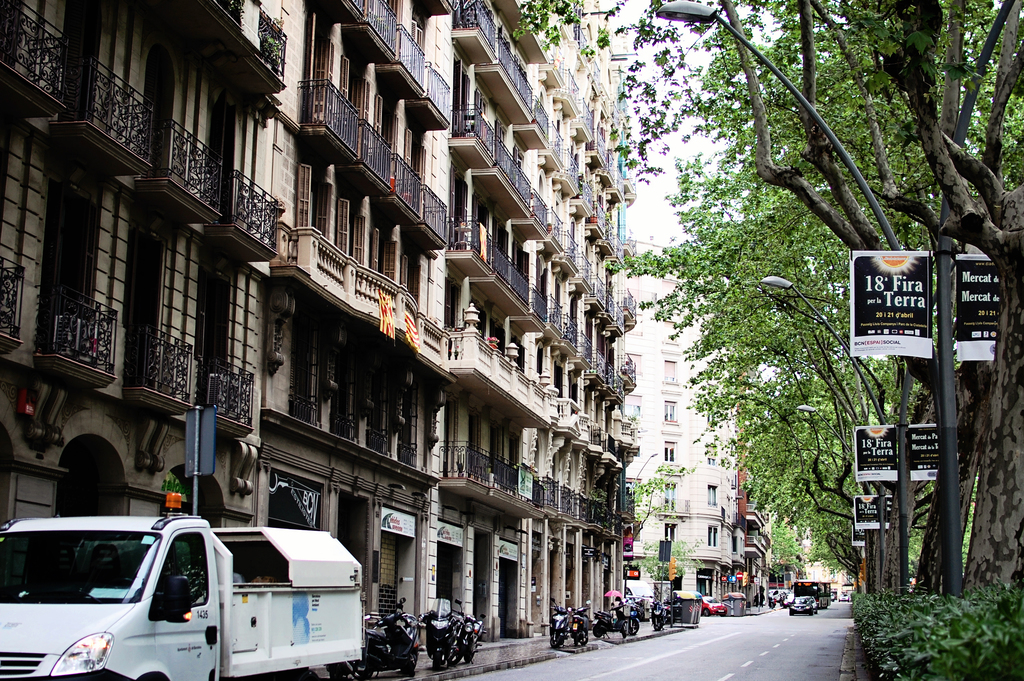Window: (0, 0, 628, 643)
